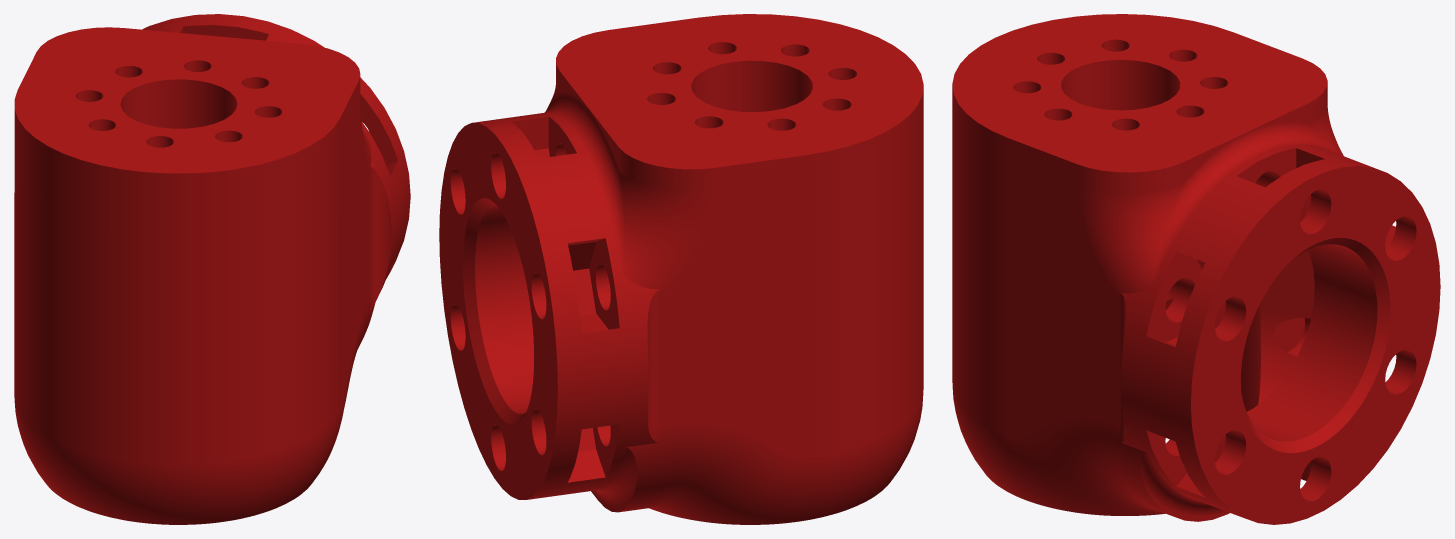
File: UnionMuñecaGripper.gltf
The picture shows the model from 3 angles, left to right: view 1: azimuth 30°, elevation 25°; view 2: azimuth 150°, elevation 25°; view 3: azimuth 270°, elevation 25°; orthographic projection. The views are drawn at different scales.
Visible parts, largest first — view 1: Body3-1; view 2: Body3-1; view 3: Body3-1.
Part boxes in pixels (<box>): Body3-1: <box>14,14,410,524</box>; Body3-1: <box>439,14,923,524</box>; Body3-1: <box>952,14,1440,524</box>.
Size of the model in its own units: 0.0516 by 0.044 by 0.0522.
